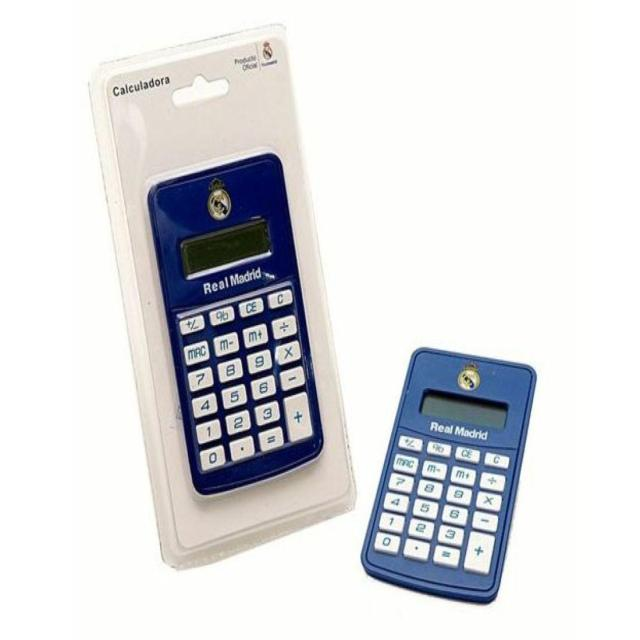Calculator: (355, 320, 543, 625)
